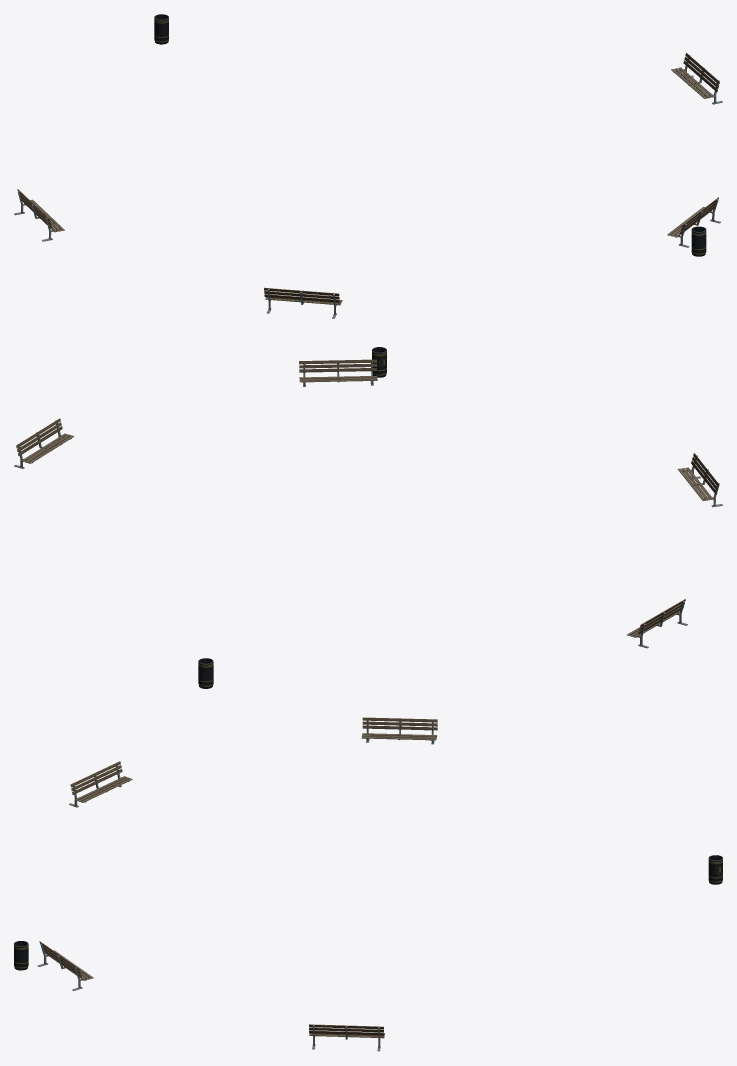
Rendered from Props_Middle_COMBO.fbx.
3 renders of one model, top to bottom at view 1: azimuth 30°, elevation 25°; view 2: azimuth 150°, elevation 25°; view 3: azimuth 270°, elevation 25°, orthographic. The views are drawn at different scales.
Visible parts, largest first — view 1: Sun_0021_Park_Bench; view 2: Sun_0021_Park_Bench; view 3: Sun_0021_Park_Bench.
Boxes of the visible parts, x1=… form: Sun_0021_Park_Bench: x1=14, y1=14, x2=722, y2=318; Sun_0021_Park_Bench: x1=14, y1=347, x2=722, y2=688; Sun_0021_Park_Bench: x1=14, y1=717, x2=722, y2=1051.
Bounding box in the file's own units: 22.72 × 0.8825 × 21.67.
